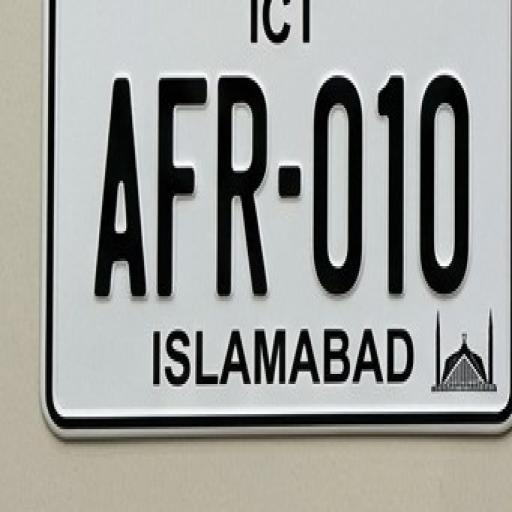0: (304, 68, 372, 293), (416, 72, 472, 292)
1: (380, 74, 406, 296)
A: (88, 80, 148, 299)
F: (156, 65, 209, 319)
R: (220, 80, 273, 310)
